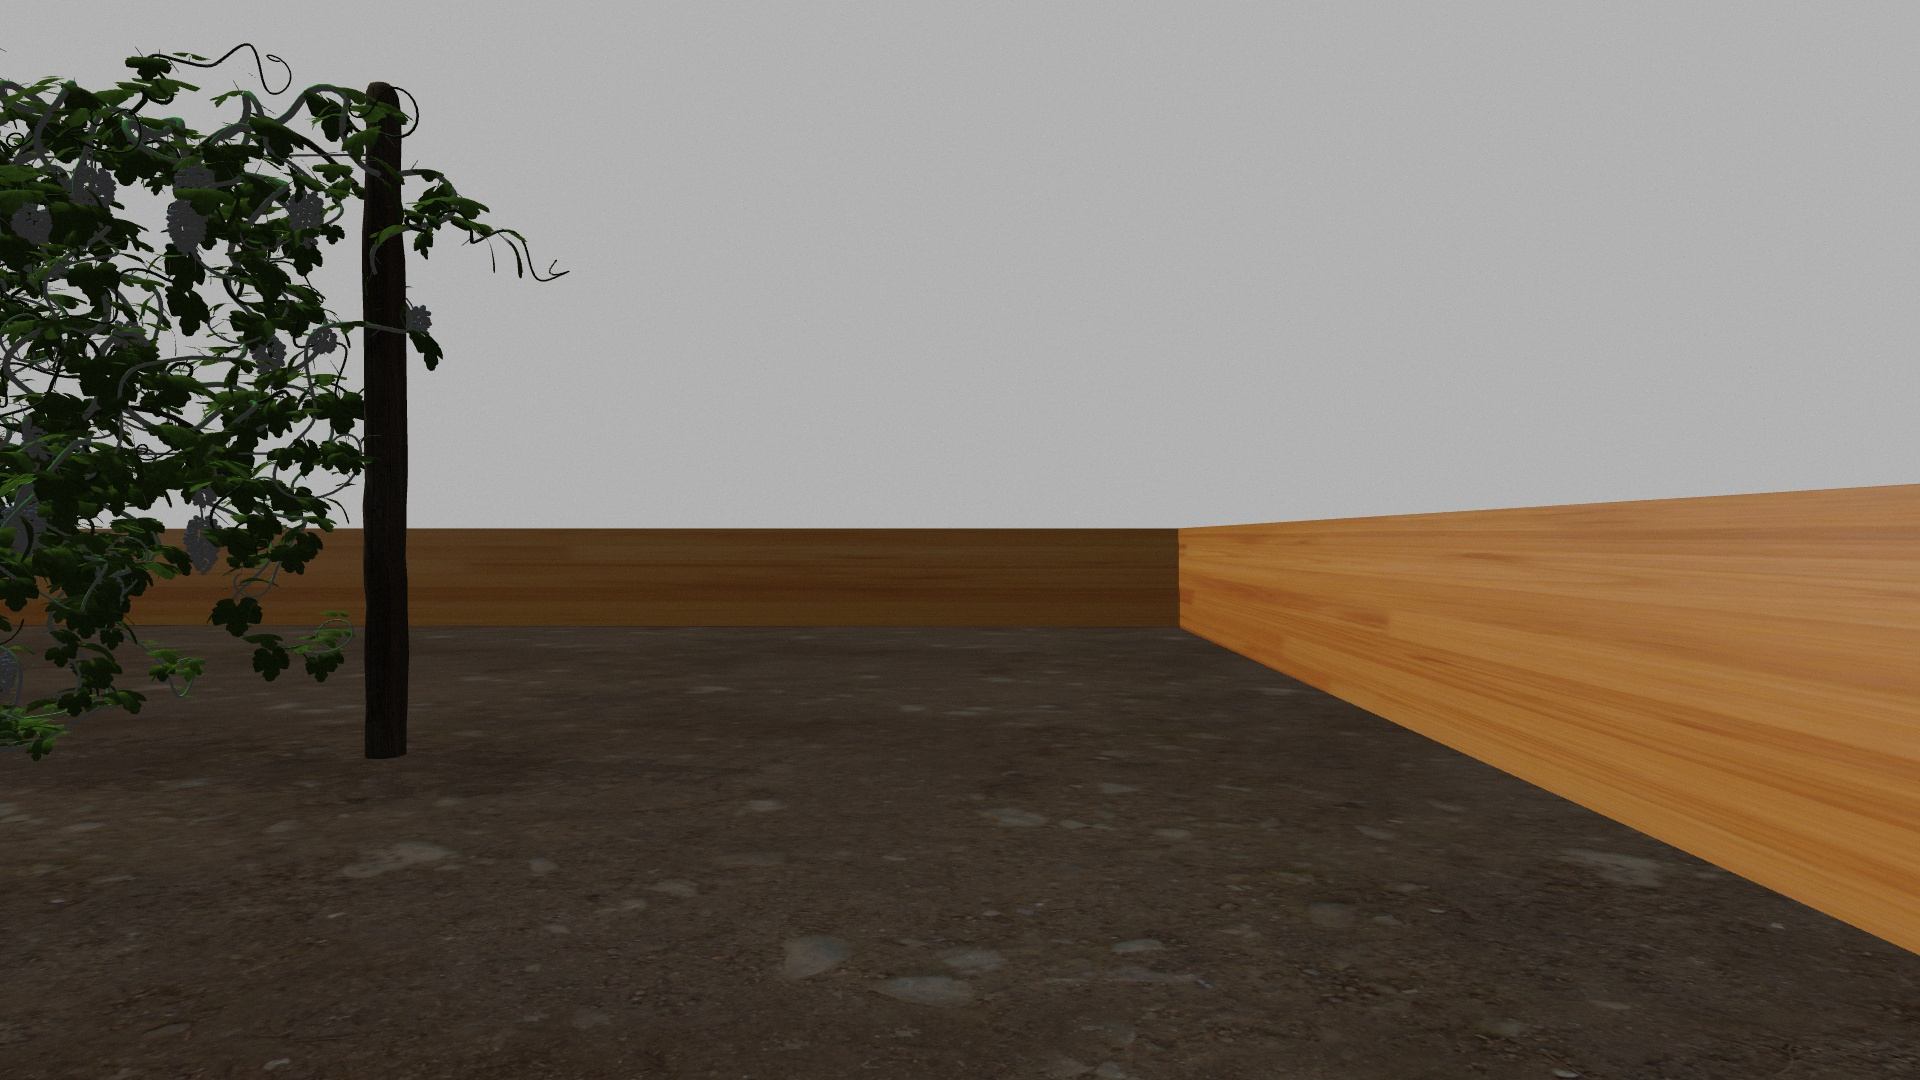grape: (182, 513, 227, 574), (166, 200, 206, 255), (287, 193, 327, 243), (11, 506, 50, 556), (73, 169, 117, 210), (11, 203, 53, 245), (252, 338, 287, 375), (175, 165, 215, 193), (406, 305, 433, 334), (310, 328, 338, 355)
